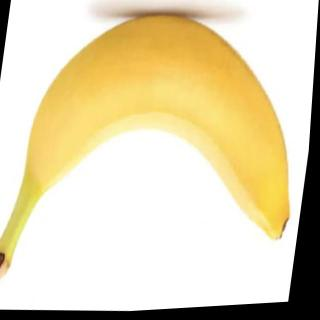banana: (15, 0, 319, 260)
